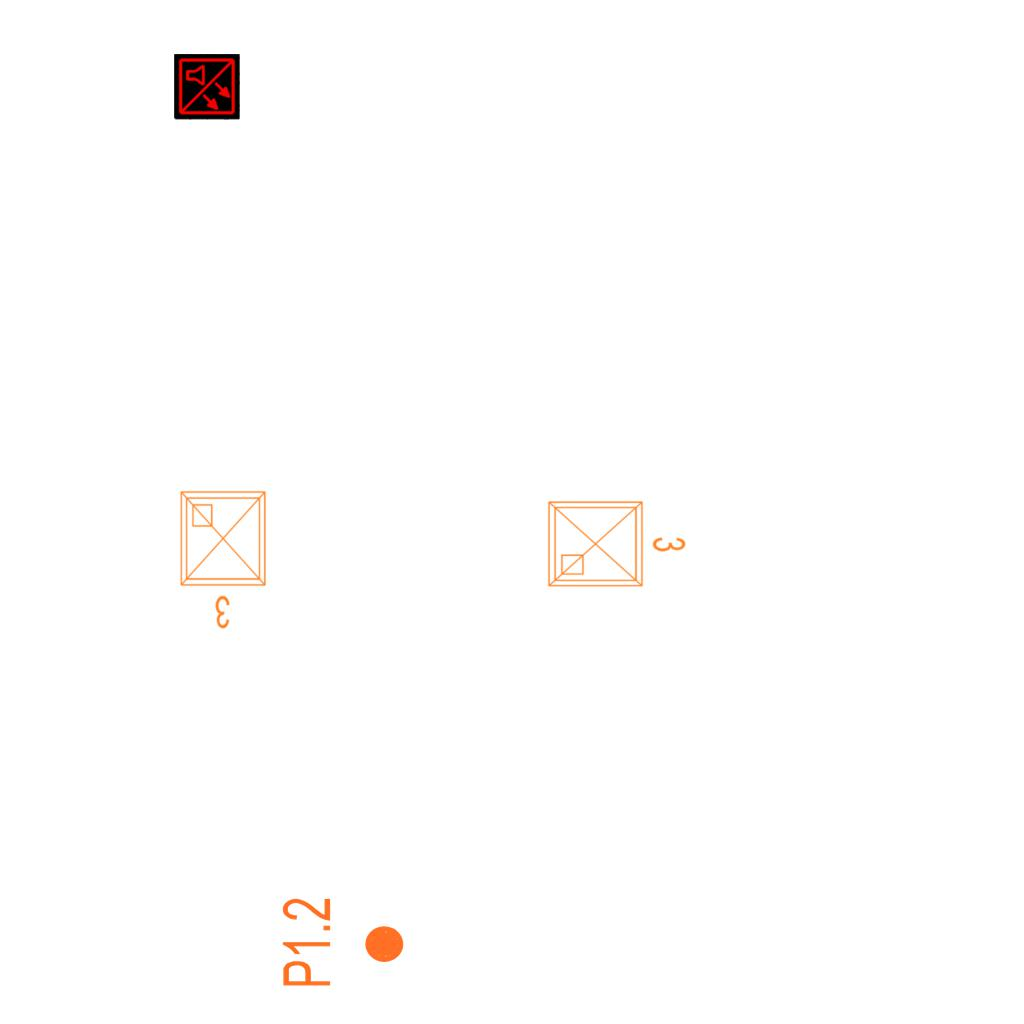Downlight_LED_Einbauleuchten_Flur: (279, 896, 407, 989)
Einbaudownlights_LED_Konferenzraeume: (541, 490, 691, 594), (173, 484, 277, 634)
OKW_Multisensormelder_(Kombination_optischer_Rauch-Kahlenmonoxid_Waerme-Melder): (174, 54, 240, 120)
